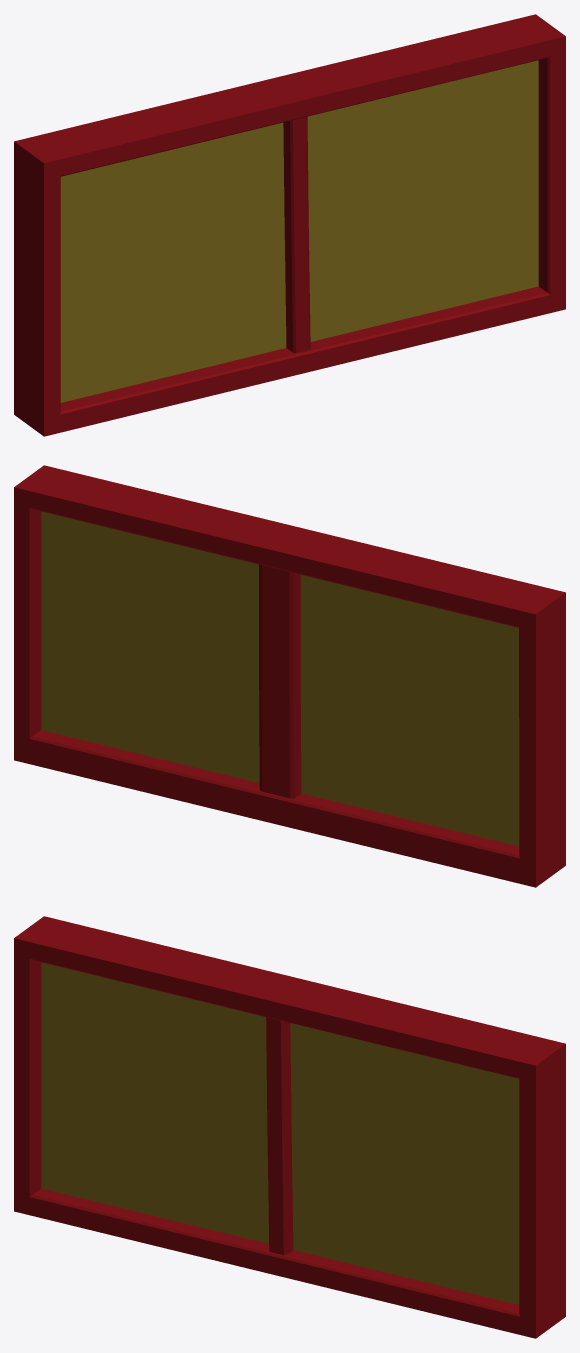
The model's file is SM_MH_01_Plaster_Wall_Half_H_01.fbx.
3 views of the same model, one above another, from view 1: azimuth 30°, elevation 25°; view 2: azimuth 150°, elevation 25°; view 3: azimuth 330°, elevation 25° (orthographic).
Visible parts, largest first — view 1: SM_MH_01_Plaster_Wall_Half_H_01_LOD0; view 2: SM_MH_01_Plaster_Wall_Half_H_01_LOD0; view 3: SM_MH_01_Plaster_Wall_Half_H_01_LOD0.
Boxes of the visible parts, x1,y1,x2,y2 form: SM_MH_01_Plaster_Wall_Half_H_01_LOD0: [14, 14, 565, 436]; SM_MH_01_Plaster_Wall_Half_H_01_LOD0: [14, 465, 565, 887]; SM_MH_01_Plaster_Wall_Half_H_01_LOD0: [14, 916, 565, 1338].
Size of what is drawn, in the model's own units: 300 by 150 by 30.
